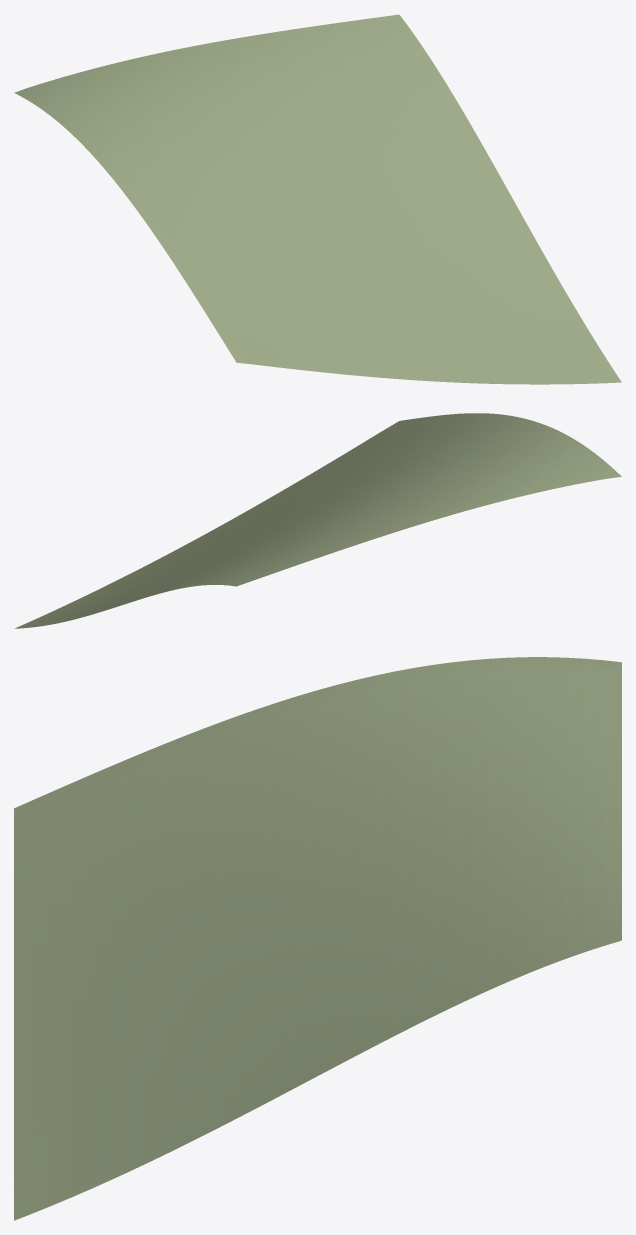
The model's file is expanse-23-22.glb.
The picture shows the model from 3 angles, top to bottom: view 1: azimuth 30°, elevation 25°; view 2: azimuth 210°, elevation 25°; view 3: azimuth 270°, elevation 25°; orthographic projection. The views are drawn at different scales.
Parts seen in each view (by area): view 1: expanse-23-22; view 2: expanse-23-22; view 3: expanse-23-22.
Part boxes in pixels (x1,y1,x2,y2): expanse-23-22: [14, 14, 621, 384]; expanse-23-22: [15, 413, 621, 628]; expanse-23-22: [14, 657, 621, 1220].
Size of the model in its own units: 256 by 143 by 256.
